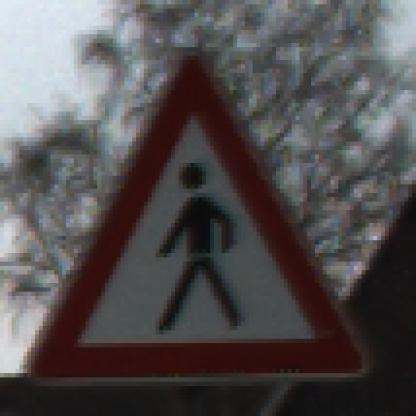crosswalk: (30, 42, 371, 383)
